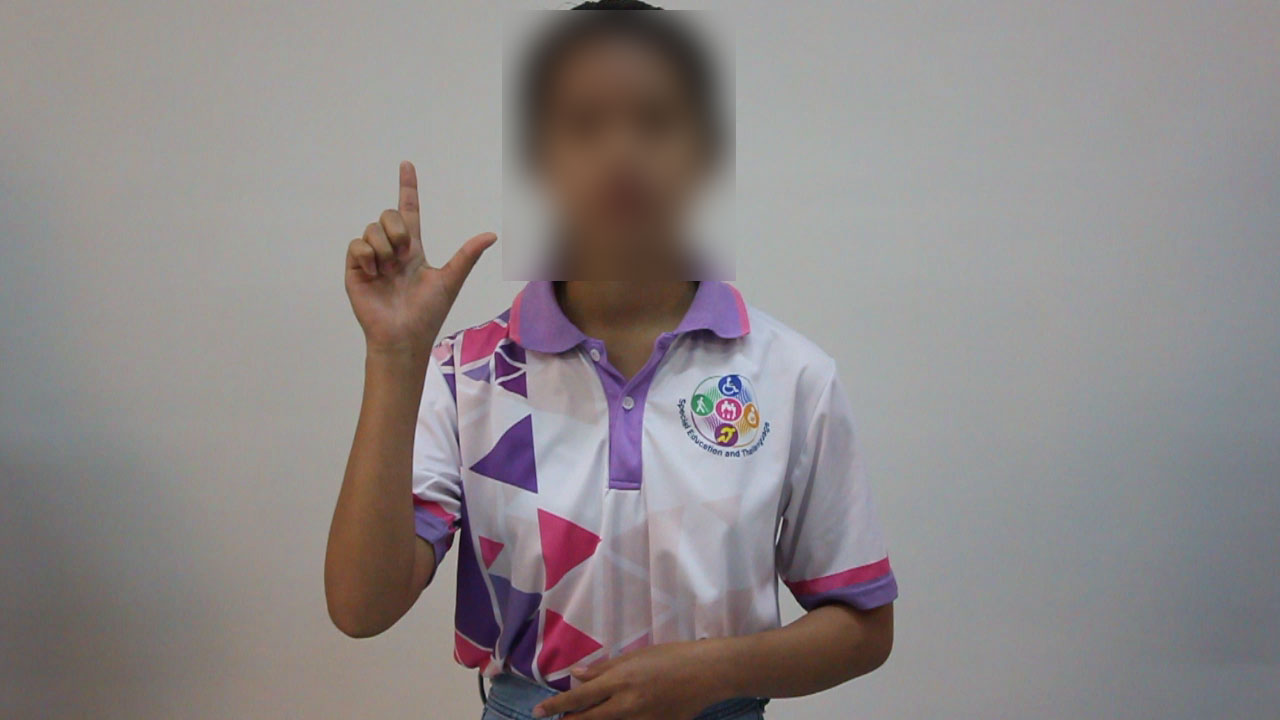lor: (274, 125, 519, 357)
